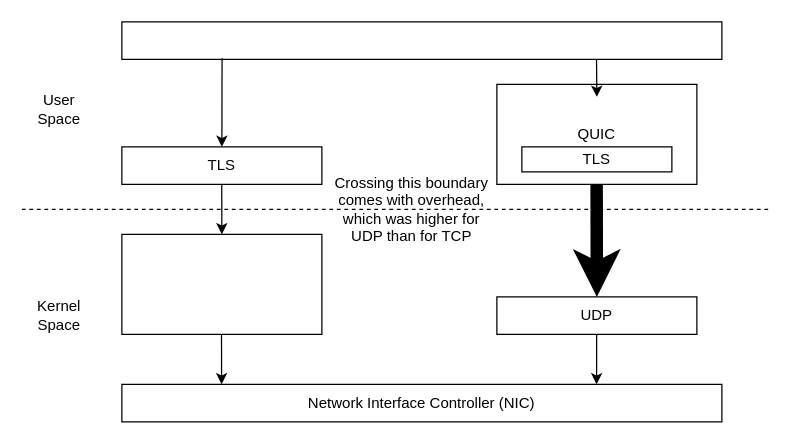
The diagram is 795 pixels wide and 444 high, and some of its shapes have lost their labels. Here are the shapes that lost their labels. From the top down, the centre of each, then its label:
At point 421,40: "Web server".
At point 221,283: "TCP".
